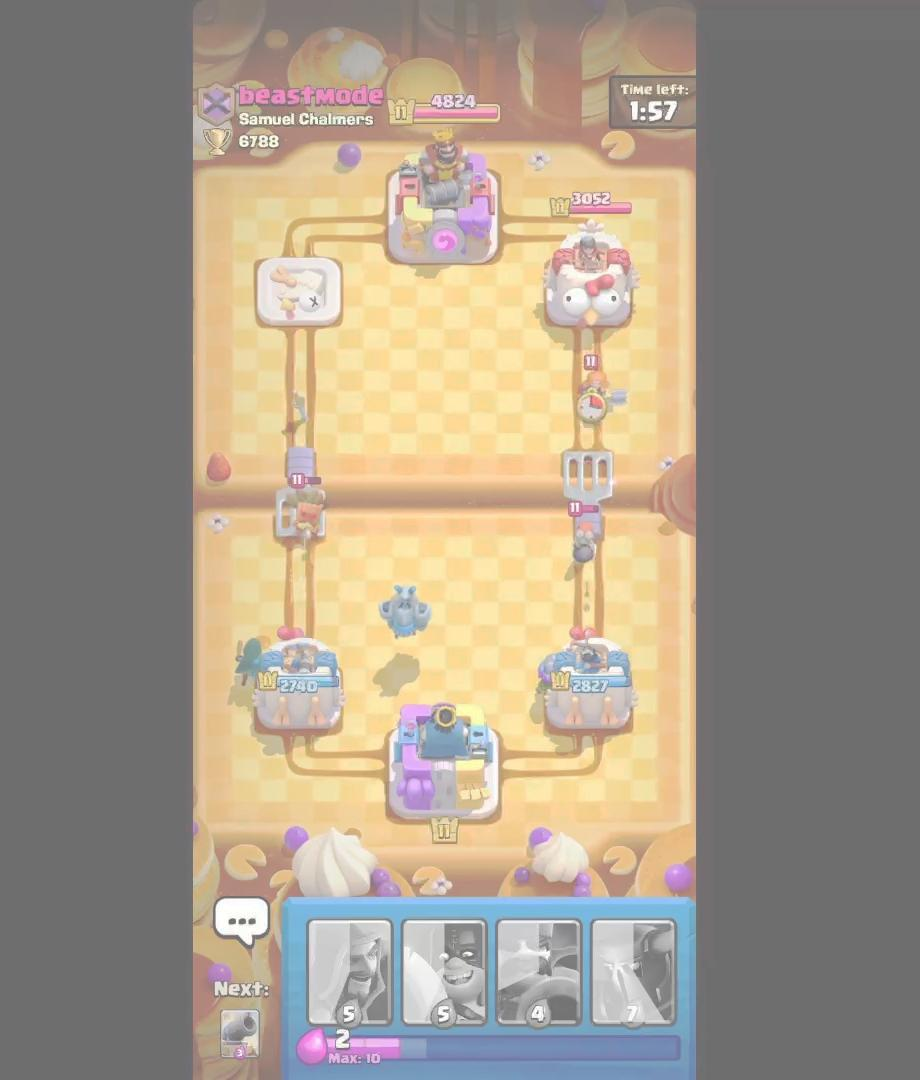Bomber: (560, 501, 606, 568)
Dart Goblin: (289, 469, 330, 551)
Valkyrie: (577, 354, 627, 425)
